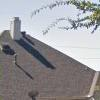Chimney: (7, 12, 36, 49)
